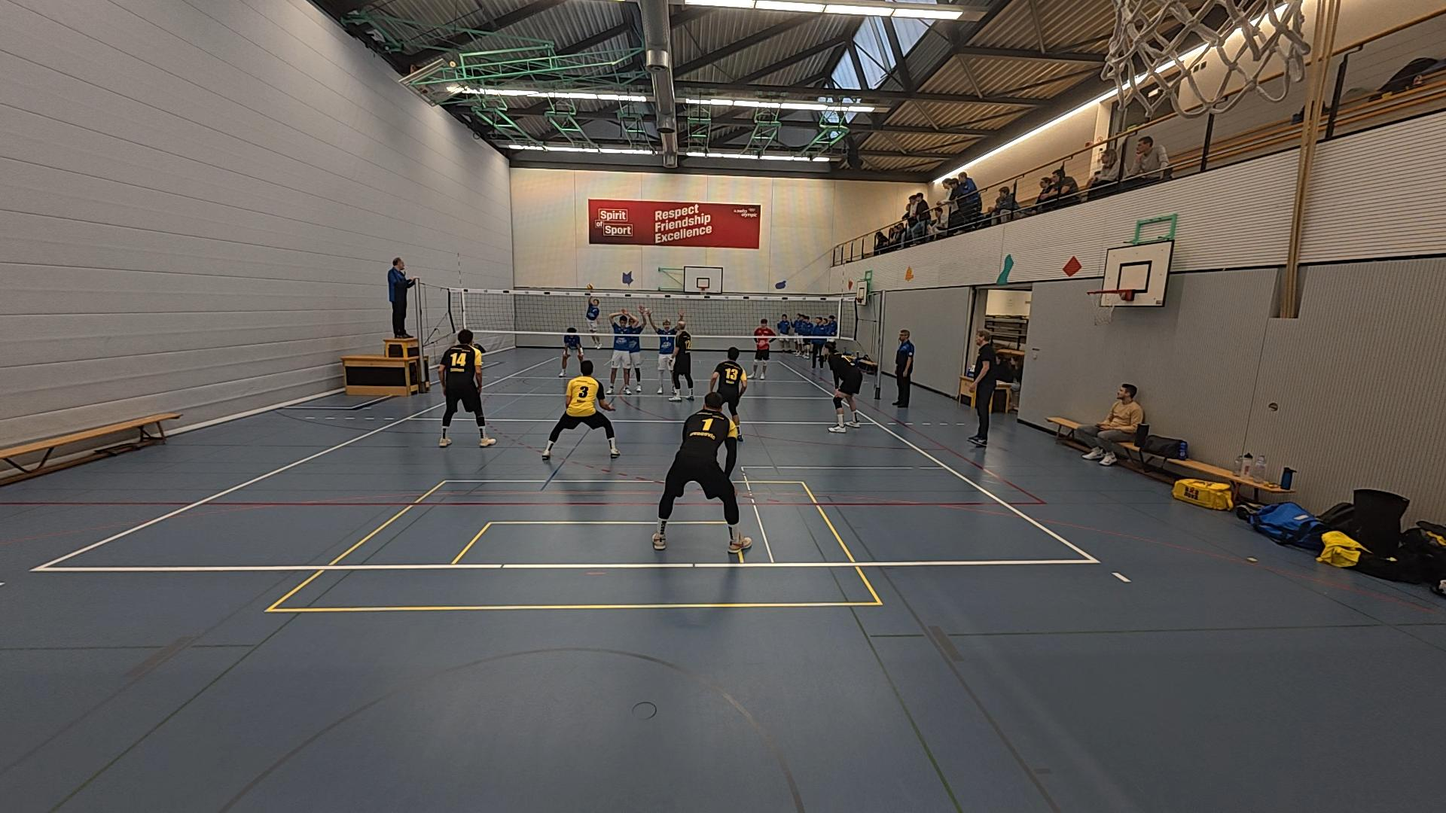Player: (653, 392, 750, 552), (541, 360, 619, 460), (439, 327, 496, 447), (825, 341, 865, 434), (606, 305, 642, 395), (710, 349, 748, 431), (646, 307, 675, 394), (668, 319, 694, 402), (557, 318, 587, 377), (752, 317, 773, 383)
Serve: (583, 284, 606, 348)
ball: (901, 264, 917, 279), (584, 282, 597, 294)
